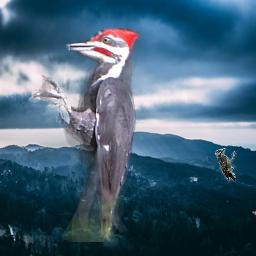Woodpecker: (32, 28, 142, 242), (215, 148, 237, 183)
